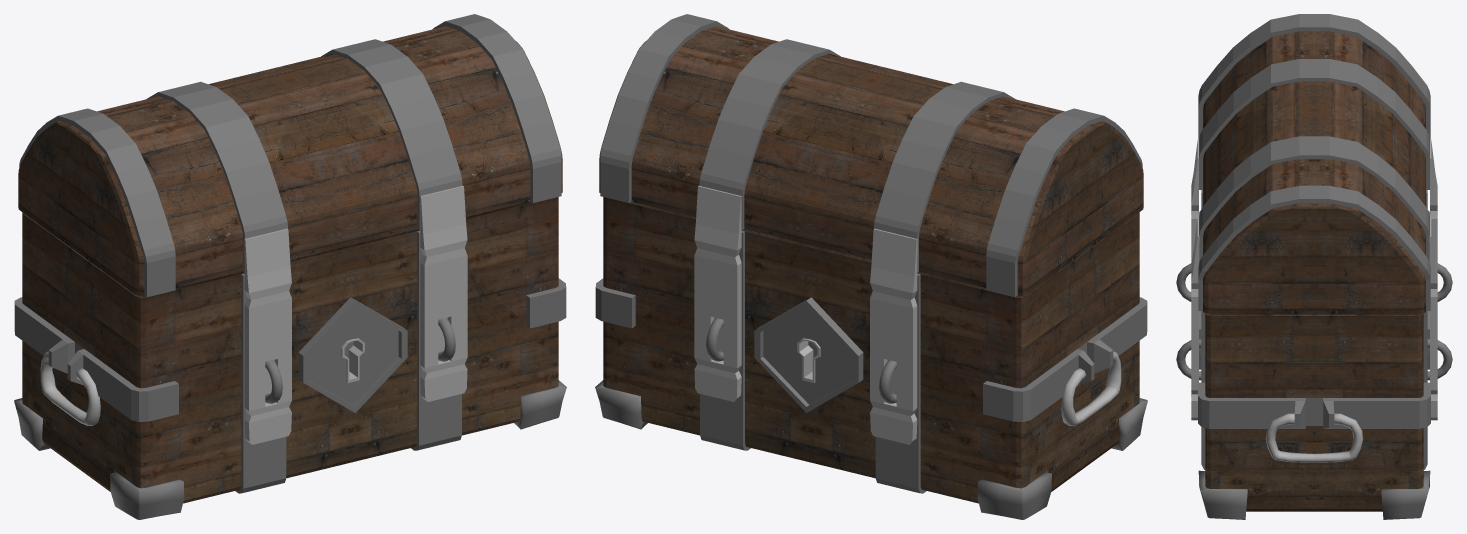
File: Cofre.fbx
The picture shows the model from 3 angles, left to right: view 1: azimuth 30°, elevation 25°; view 2: azimuth 150°, elevation 25°; view 3: azimuth 270°, elevation 25°; orthographic projection. The views are drawn at different scales.
Parts seen in each view (by area): view 1: Cube.008; view 2: Cube.008; view 3: Cube.008.
Boxes of the visible parts, bbox=[...] form: Cube.008: bbox=[14, 14, 566, 519]; Cube.008: bbox=[595, 14, 1147, 519]; Cube.008: bbox=[1176, 14, 1452, 519].
Bounding box in the file's own units: 222 × 161 × 126.
Materials: 4 (2 with a texture image).
